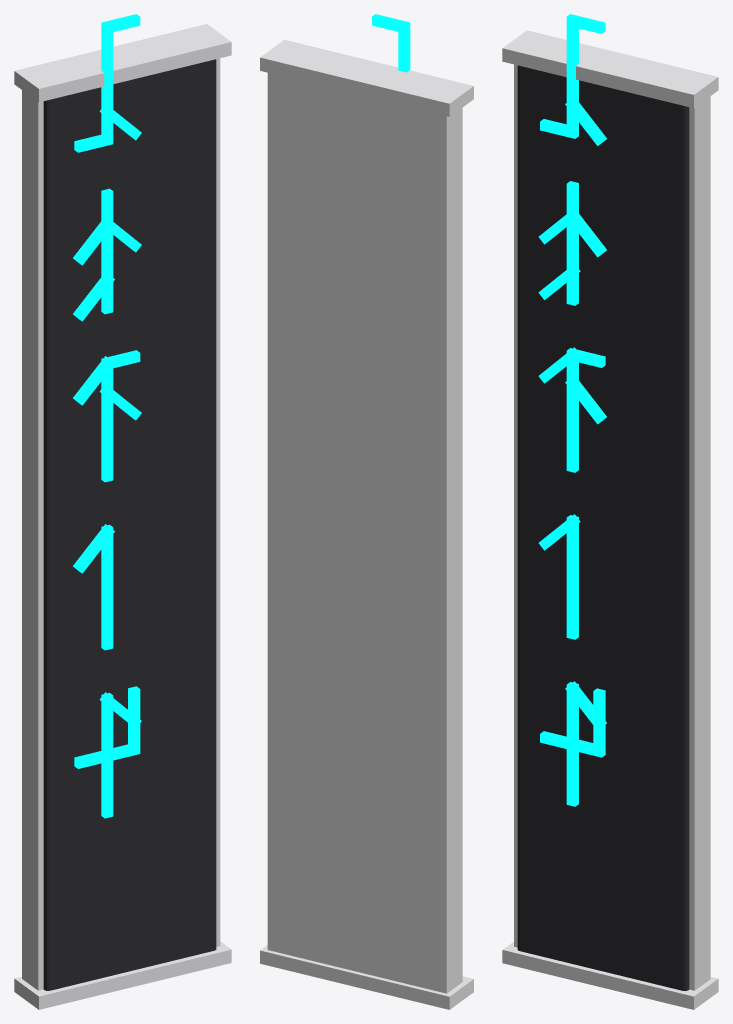
File: SM_SignV1.fbx
3 renders of one model, left to right at view 1: azimuth 30°, elevation 25°; view 2: azimuth 150°, elevation 25°; view 3: azimuth 330°, elevation 25°, orthographic.
Parts seen in each view (by area): view 1: SM_SignV1; view 2: SM_SignV1; view 3: SM_SignV1.
Part boxes in pixels (bbox=[...]): SM_SignV1: bbox=[14, 14, 231, 1009]; SM_SignV1: bbox=[260, 14, 473, 1009]; SM_SignV1: bbox=[502, 14, 718, 1009].
Bounding box in the file's own units: 0.41 × 1.8 × 8.65.
